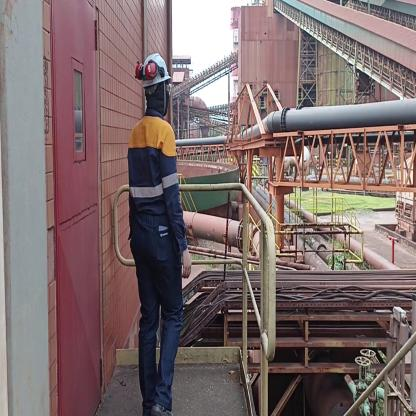Balaclava: (140, 81, 171, 116)
Capacete: (139, 49, 172, 81)
Operacional: (127, 118, 182, 224)
